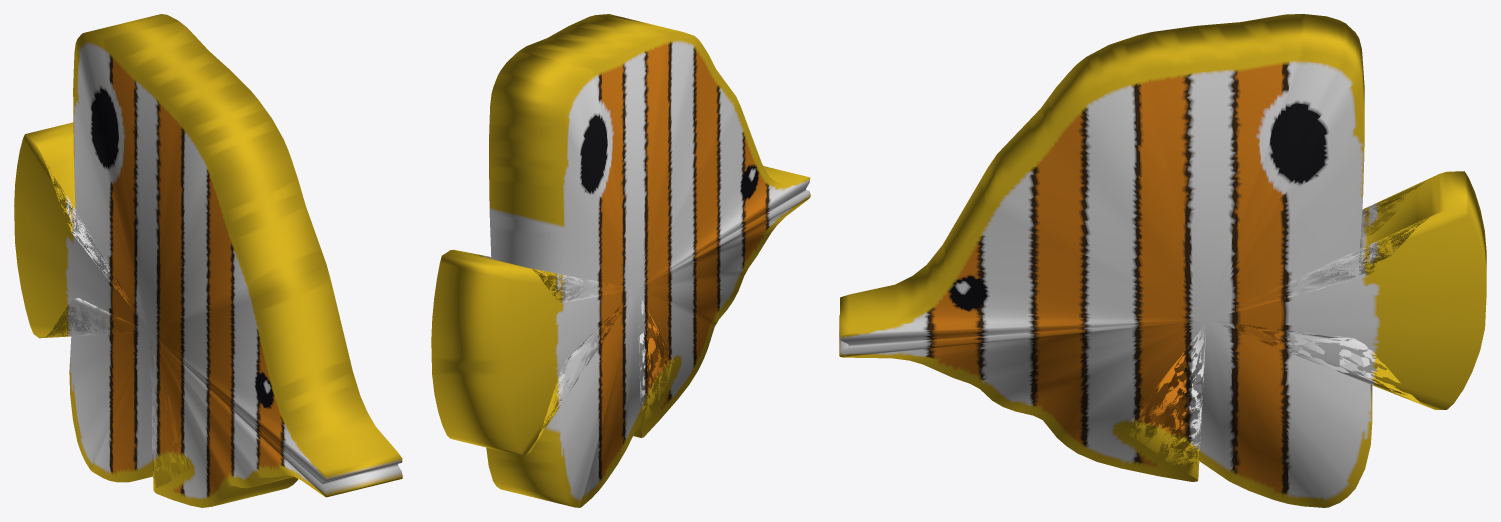
The model's file is chelmonrostratus.glb.
The picture shows the model from 3 angles, left to right: view 1: azimuth 30°, elevation 25°; view 2: azimuth 150°, elevation 25°; view 3: azimuth 270°, elevation 25°; orthographic projection. The views are drawn at different scales.
Visible parts, largest first — view 1: chelmonrostratus; view 2: chelmonrostratus; view 3: chelmonrostratus.
Boxes of the visible parts, <box> form: chelmonrostratus: <box>14,14,402,507</box>; chelmonrostratus: <box>431,14,810,507</box>; chelmonrostratus: <box>839,14,1486,507</box>.
Size of the model in its own units: 0.2382 by 1.32 by 1.7.
